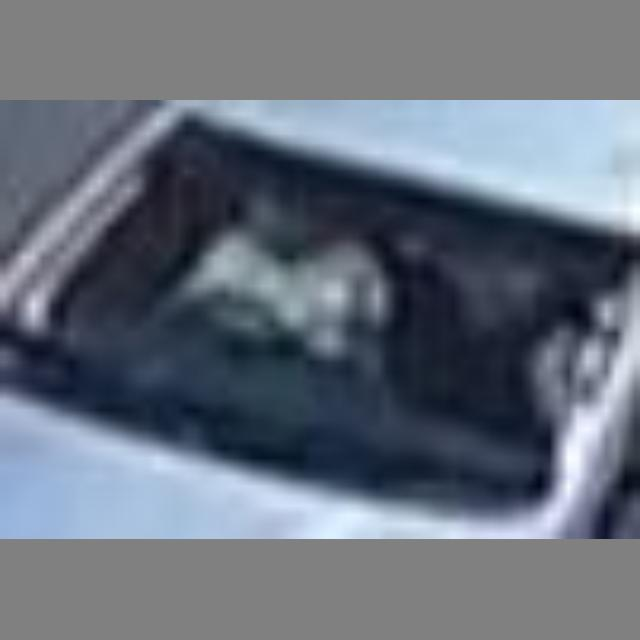tidak-pakai: (153, 186, 439, 453)
